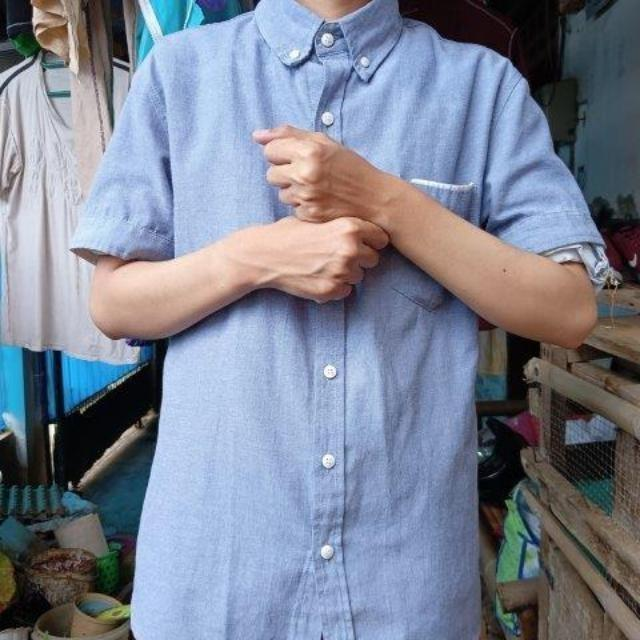G: (230, 114, 397, 322)
